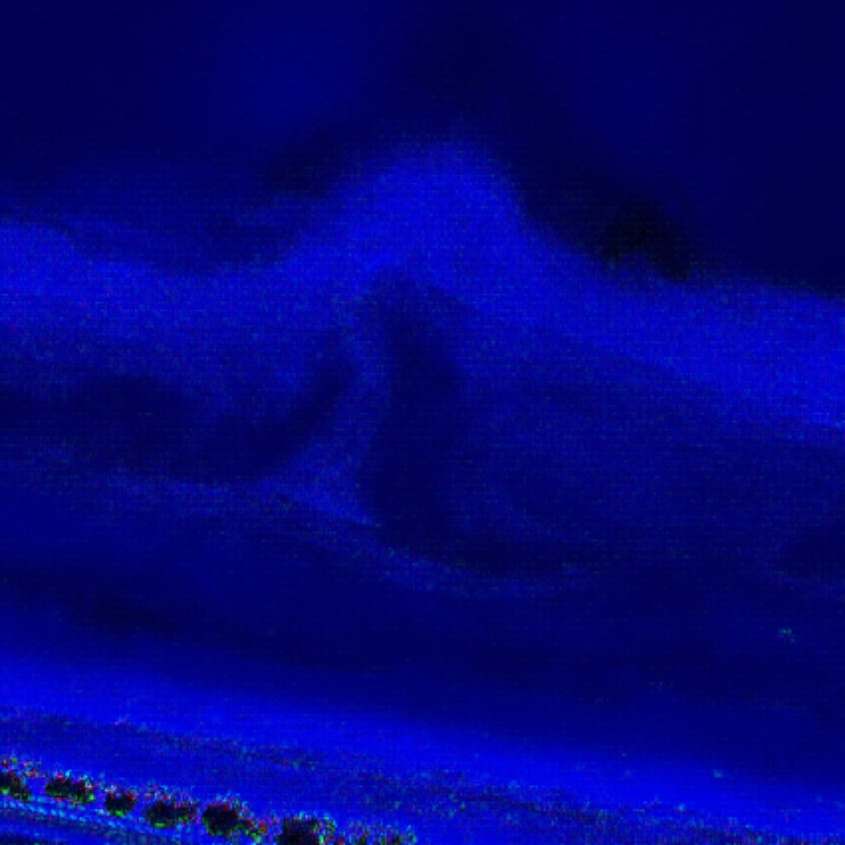rip_current: (283, 115, 573, 548)
